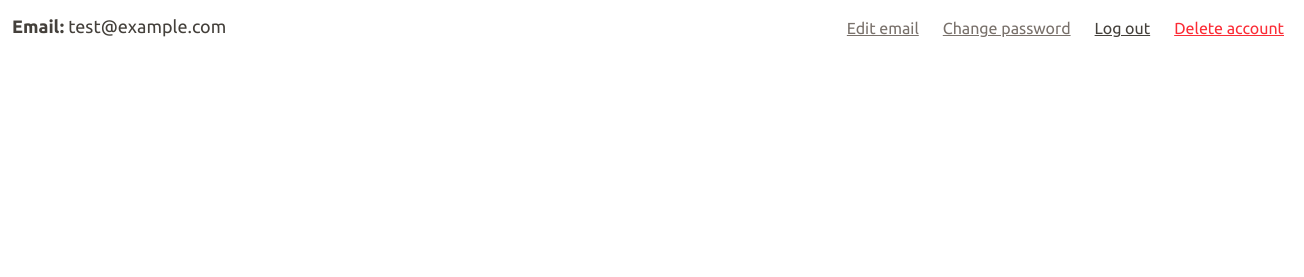
Scenario: AccountView – Update email form › submitting with an empty email shows a validation error
Step 1. Click the button "Edit email" → click(883, 28), box [839,12,927,44]
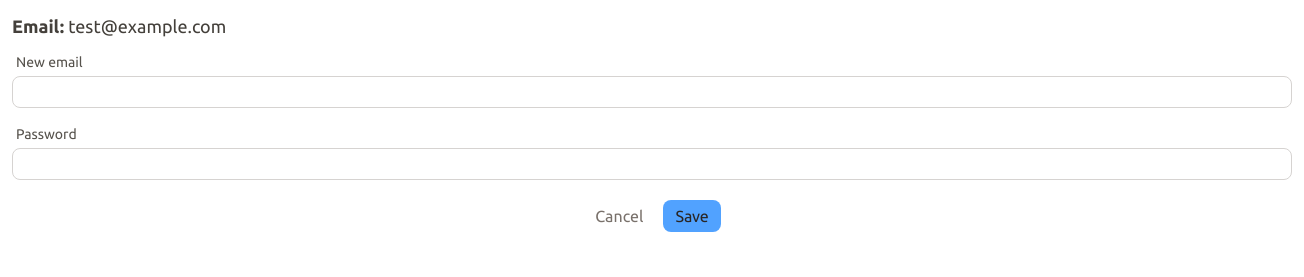
Step 2. Click the button "Save" → click(692, 216), box [663,200,721,232]
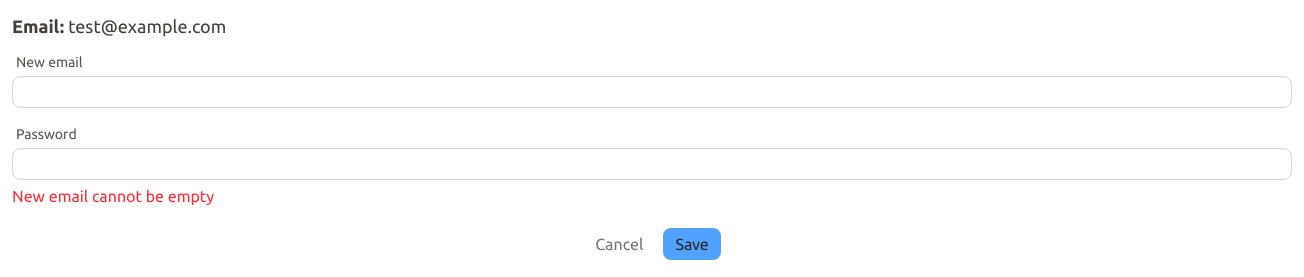
Check: the text "New email cannot be empty" is shown, box [12,187,214,205]
